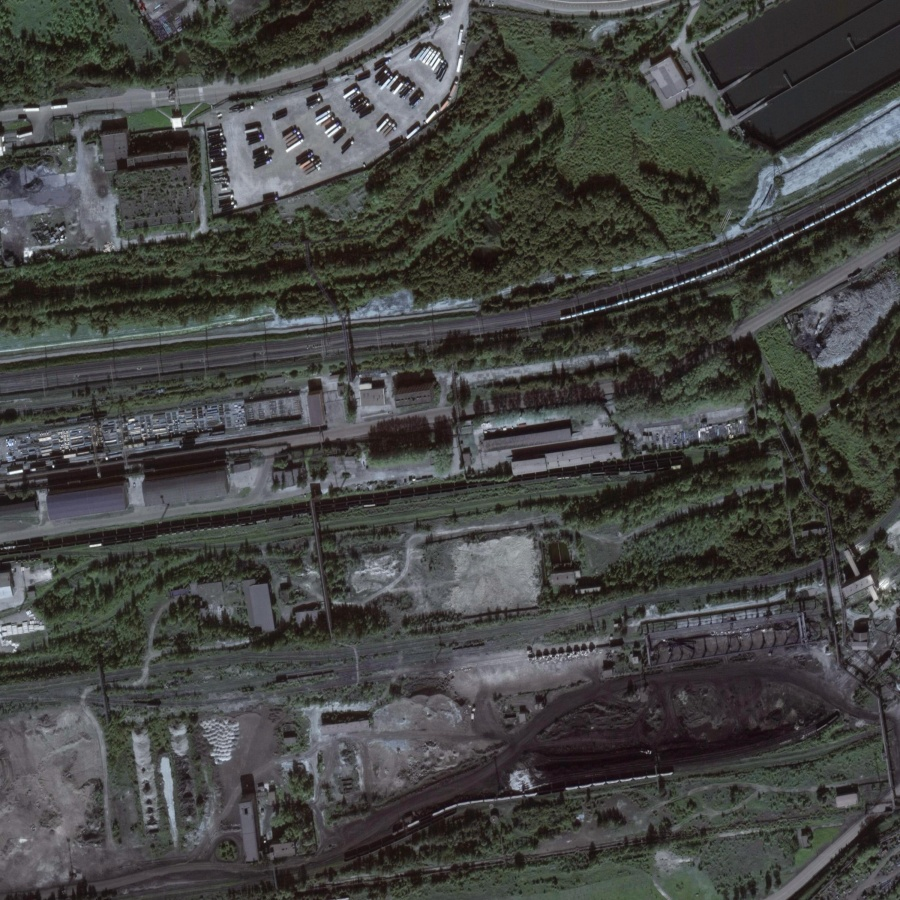PowerPlant: (408, 638, 848, 802)
